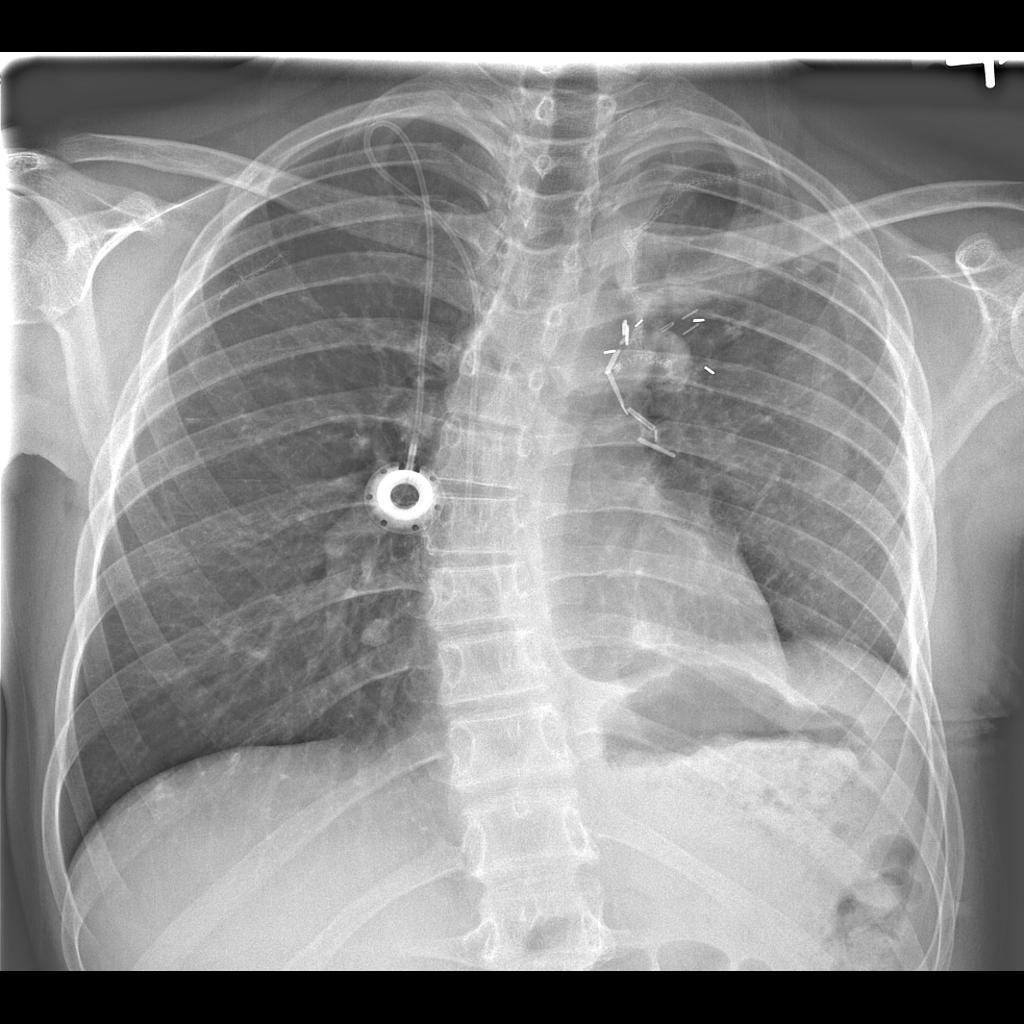Nodule: (352, 611, 396, 656)
